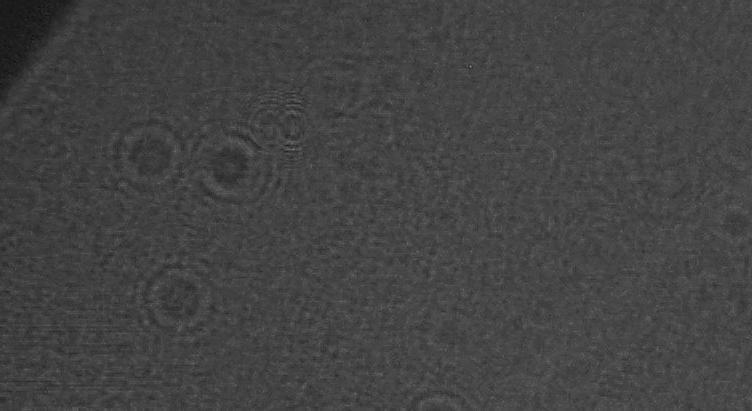bead: (181, 121, 296, 218), (126, 249, 230, 347), (95, 117, 189, 198), (394, 384, 487, 411)
